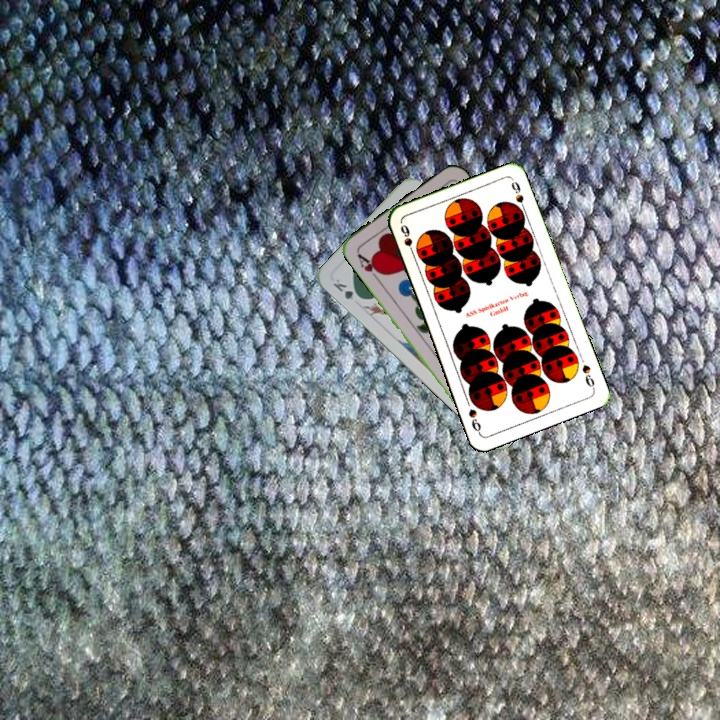GK: (329, 275, 365, 303)
HA: (353, 248, 386, 284)
S9: (396, 220, 418, 259), (578, 360, 597, 392)
